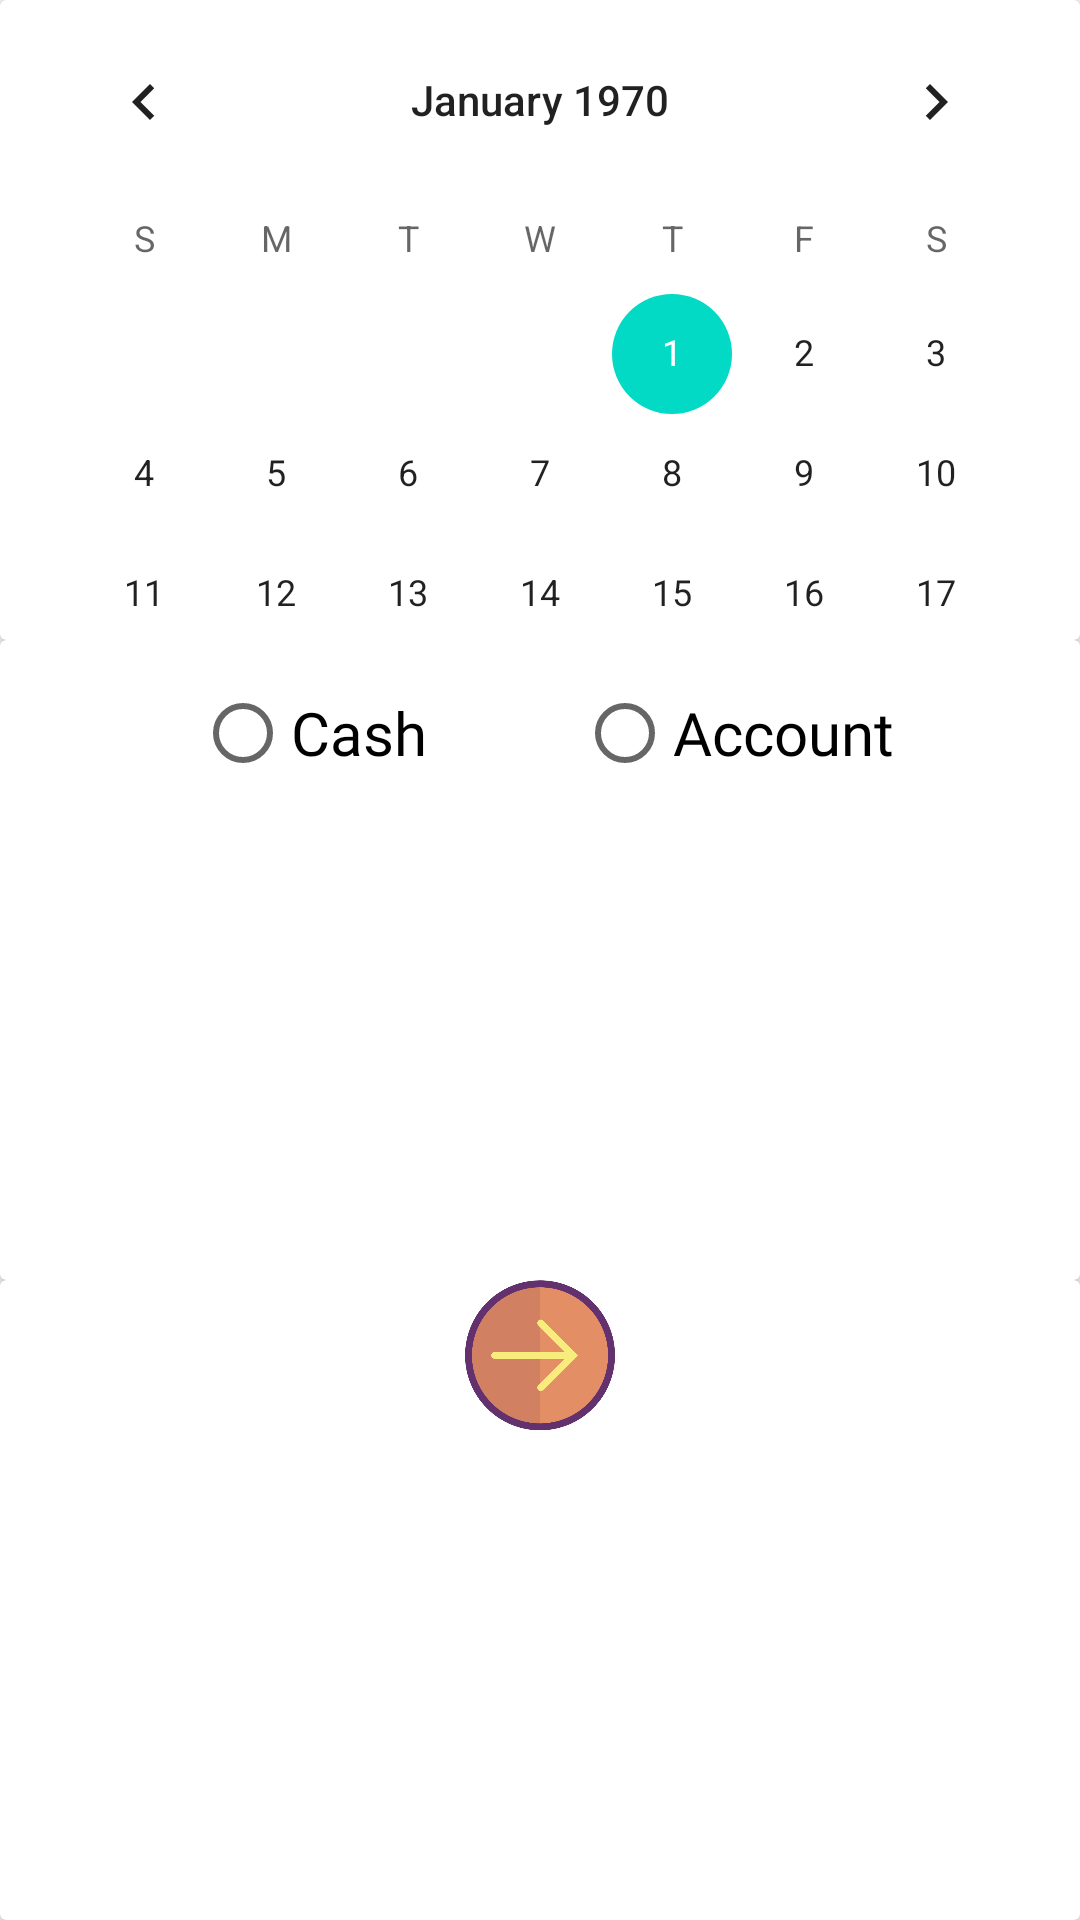

Icon bounding boxes for this 1080px x 1920px phone screenshot, format (x1, y1, x2, y2):
icnext: (465, 1280, 615, 1430)
